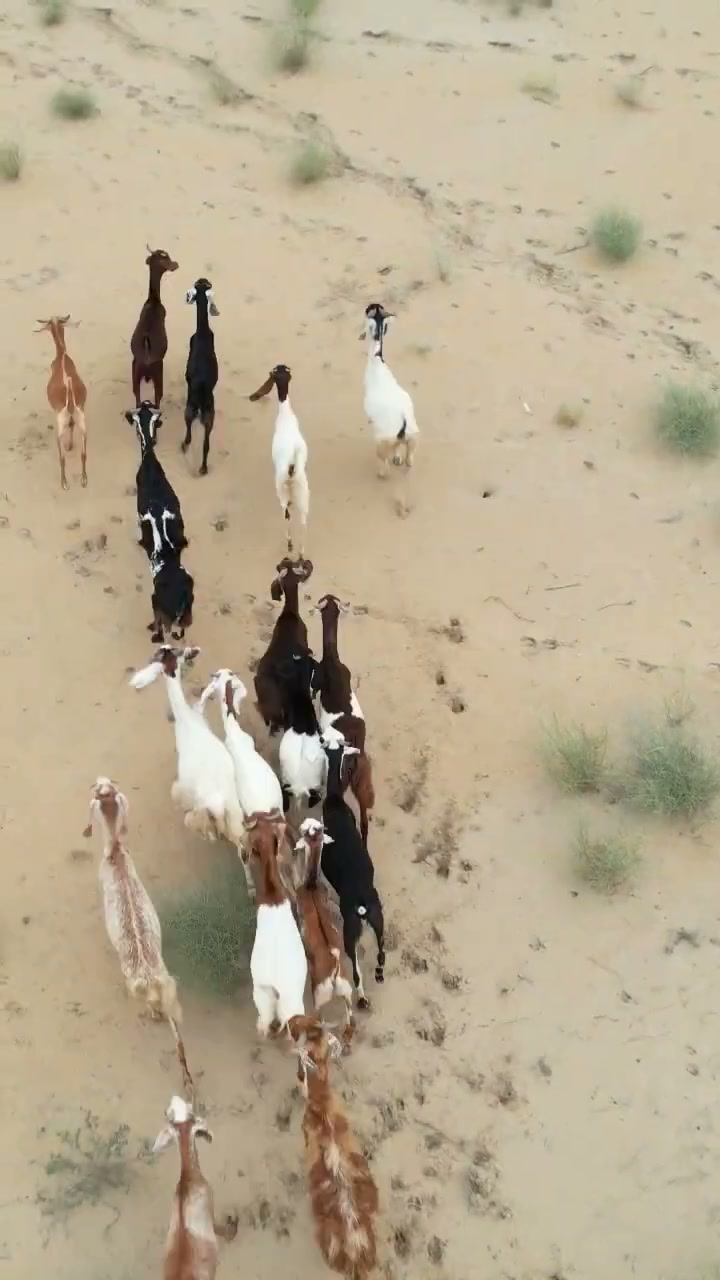animal_footprint: (51, 507, 258, 1279)
